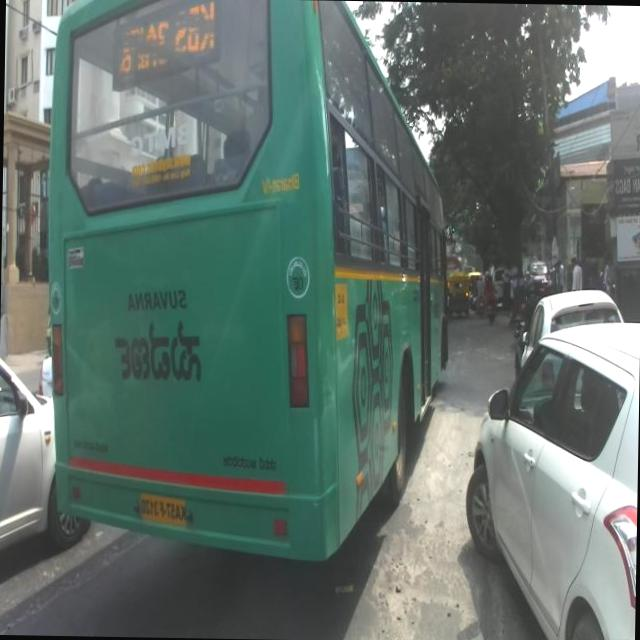pothole: (379, 505, 455, 640)
